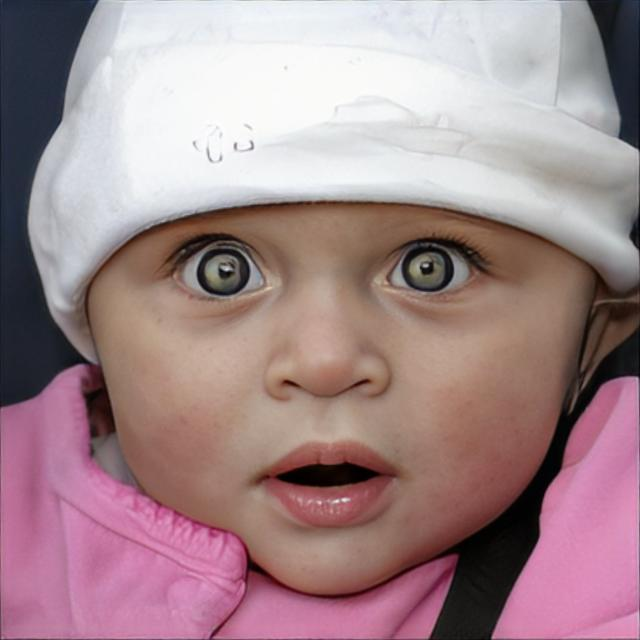surprise: (85, 196, 600, 598)
